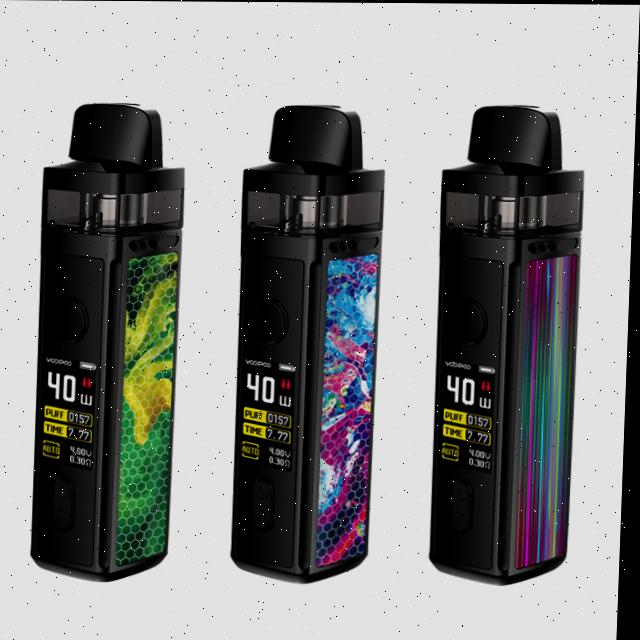vape: (233, 101, 390, 585), (33, 101, 189, 582), (431, 104, 587, 584)
